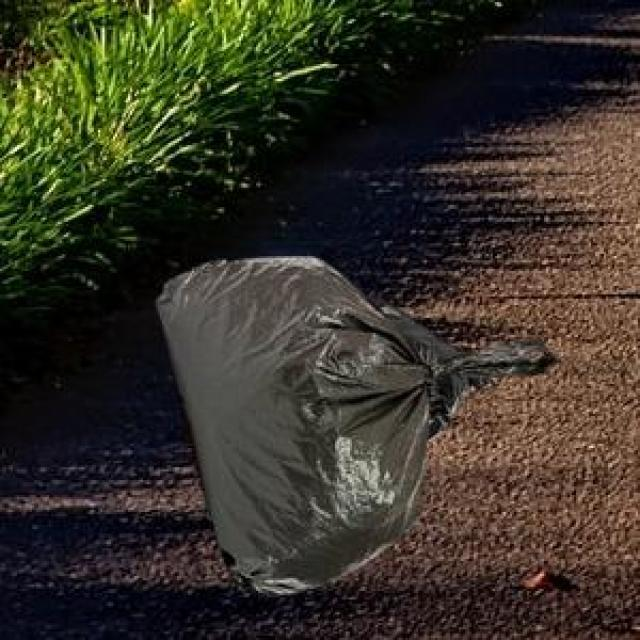Trashbag: (151, 250, 566, 600)
